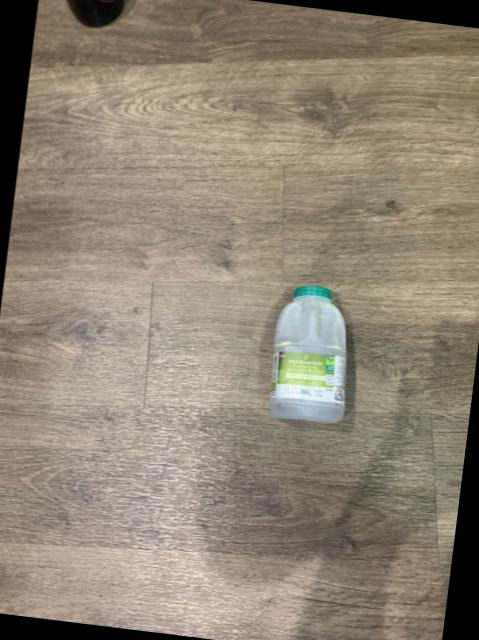plastic: (271, 283, 347, 420)
